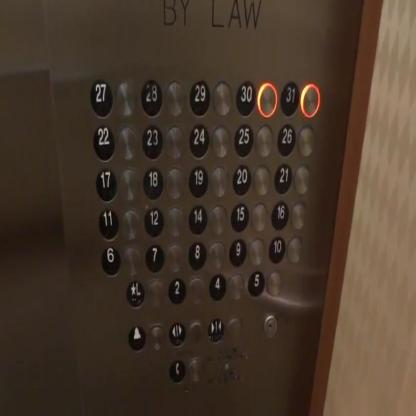10: (267, 232, 286, 264)
11: (96, 204, 121, 241)
12: (143, 203, 164, 236)
14: (188, 202, 207, 235)
15: (230, 198, 248, 232)
16: (270, 196, 288, 230)
17: (94, 165, 118, 202)
18: (141, 163, 163, 199)
19: (188, 163, 207, 196)
2: (168, 275, 185, 305)
20: (231, 161, 250, 194)
21: (273, 161, 292, 194)
22: (92, 121, 115, 160)
23: (140, 121, 164, 160)
24: (187, 119, 210, 160)
25: (232, 119, 254, 158)
26: (274, 120, 296, 156)
27: (88, 75, 114, 117)
28: (139, 76, 163, 116)
29: (187, 76, 210, 116)
30: (235, 76, 256, 116)
31: (279, 79, 300, 117)
4: (208, 269, 226, 300)
5: (247, 267, 264, 297)
6: (99, 241, 121, 276)
7: (144, 239, 164, 275)
8: (187, 238, 206, 271)
9: (228, 233, 246, 266)
alarm: (128, 320, 145, 352)
call: (168, 355, 185, 382)
close: (207, 312, 224, 344)
empty: (162, 77, 184, 115), (298, 80, 320, 118), (115, 124, 136, 162), (113, 78, 134, 116), (257, 77, 278, 115), (212, 76, 232, 114), (163, 121, 183, 158), (210, 123, 230, 157), (121, 207, 140, 241), (119, 166, 138, 200), (208, 164, 227, 198), (296, 124, 315, 158), (164, 164, 182, 198), (252, 162, 270, 196), (292, 162, 310, 196), (254, 123, 272, 157), (227, 270, 245, 302), (285, 232, 303, 264), (288, 201, 306, 232), (249, 201, 267, 232), (146, 276, 163, 308), (208, 238, 225, 270), (166, 204, 183, 236), (188, 275, 205, 306), (123, 245, 140, 276), (165, 242, 182, 273), (247, 236, 264, 267), (209, 203, 226, 234), (186, 319, 203, 347), (265, 269, 282, 296), (186, 355, 202, 383), (148, 323, 164, 350), (224, 316, 240, 343)
keyhole: (262, 311, 278, 339)
open: (167, 316, 185, 348)
sL: (126, 276, 143, 308)
